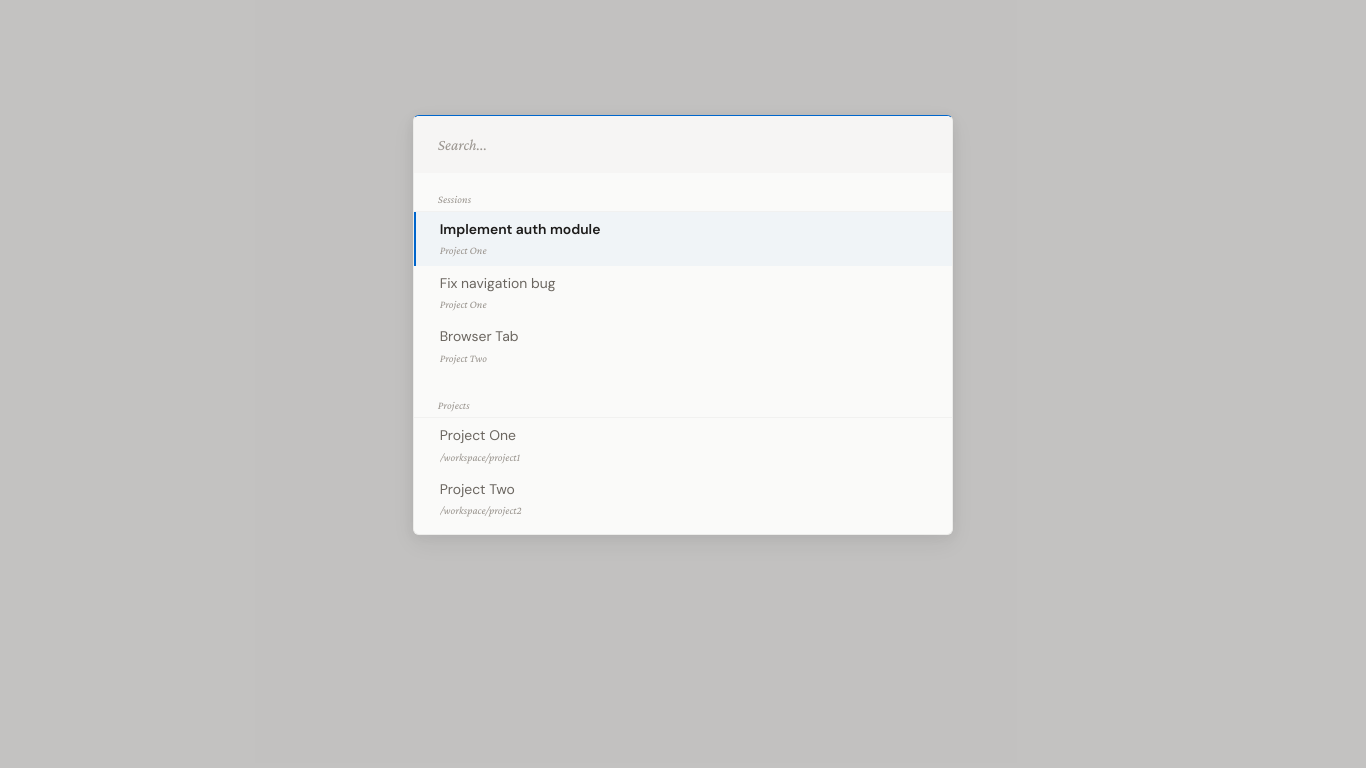
Test: CommandPalette › displays keyboard shortcuts for actions
The width and height of the screenshot is (1366, 768).
In the field with placeholder "Search...": (683, 144) x1=414 y1=116 x2=952 y2=173, type "New Session"
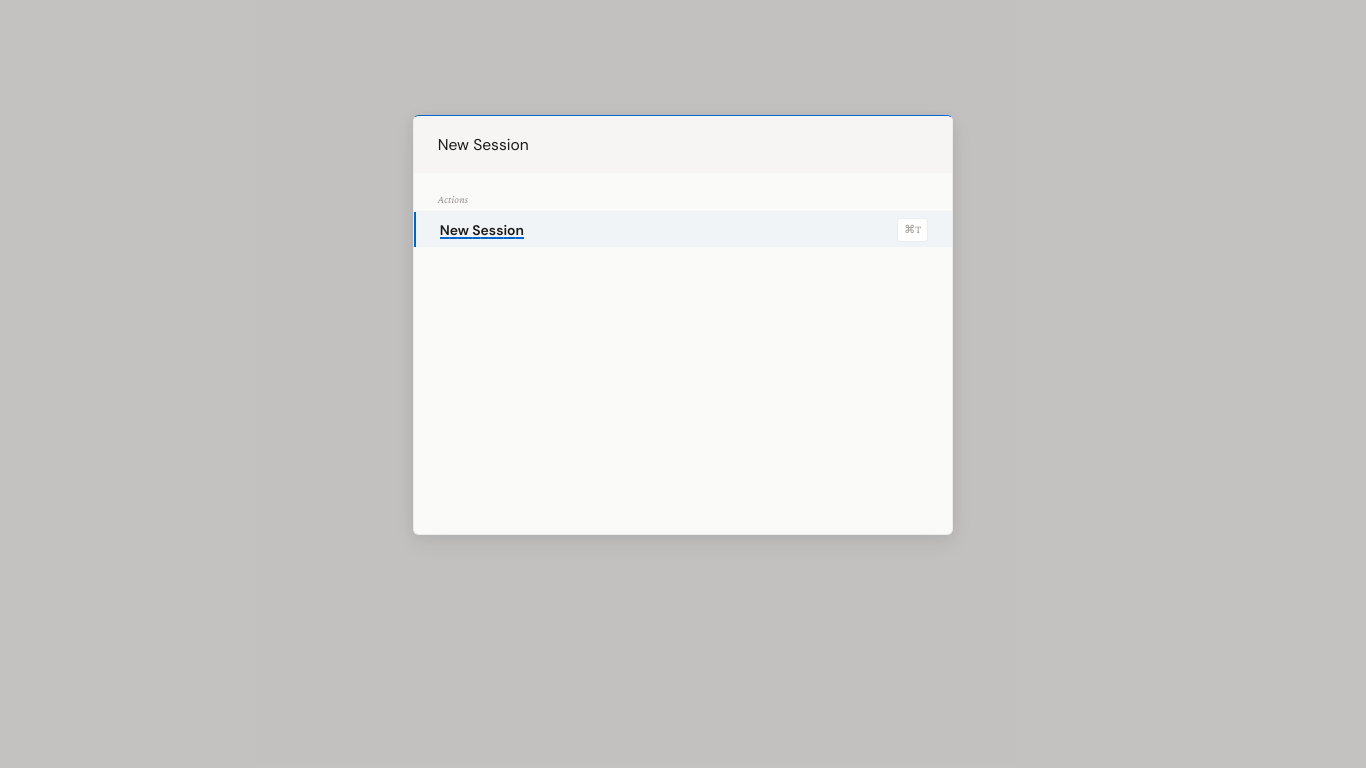
Expected: the text "⌘T" is shown, x1=897 y1=218 x2=928 y2=242
